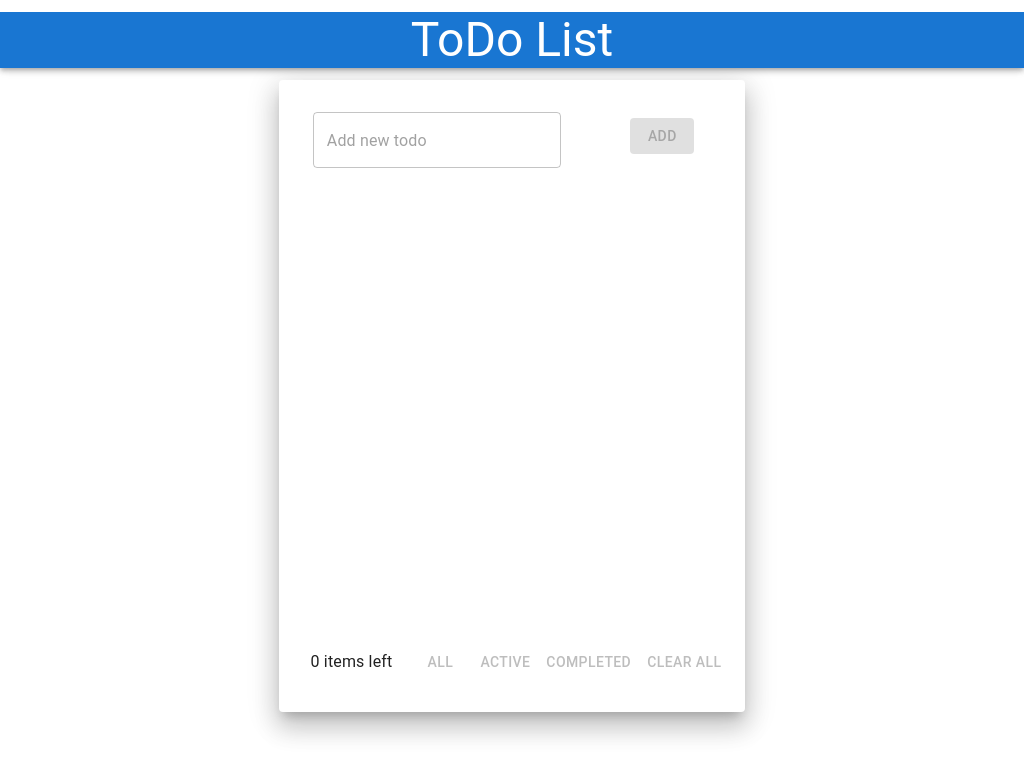
Scenario: TodoApp › counts remaining uncompleted todos
Type "First Todo" into the field with placeholder "Add new todo" at (437,140), box [313,112,561,168]
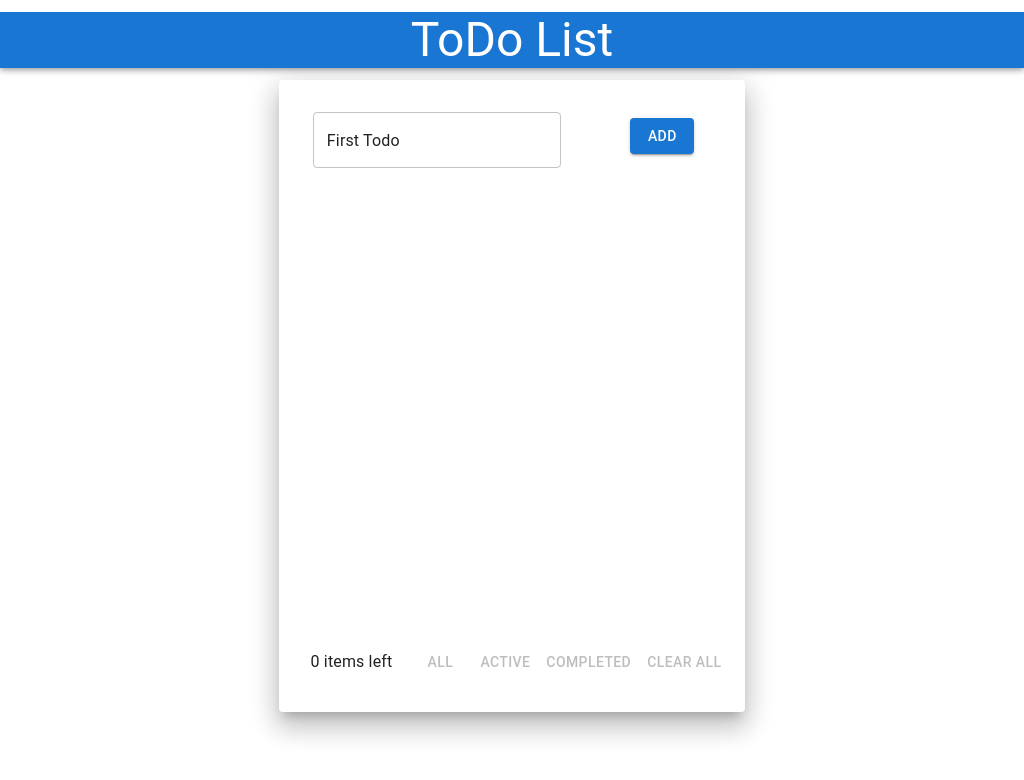
Click the button "Add" at (662,136), box [630,118,694,154]
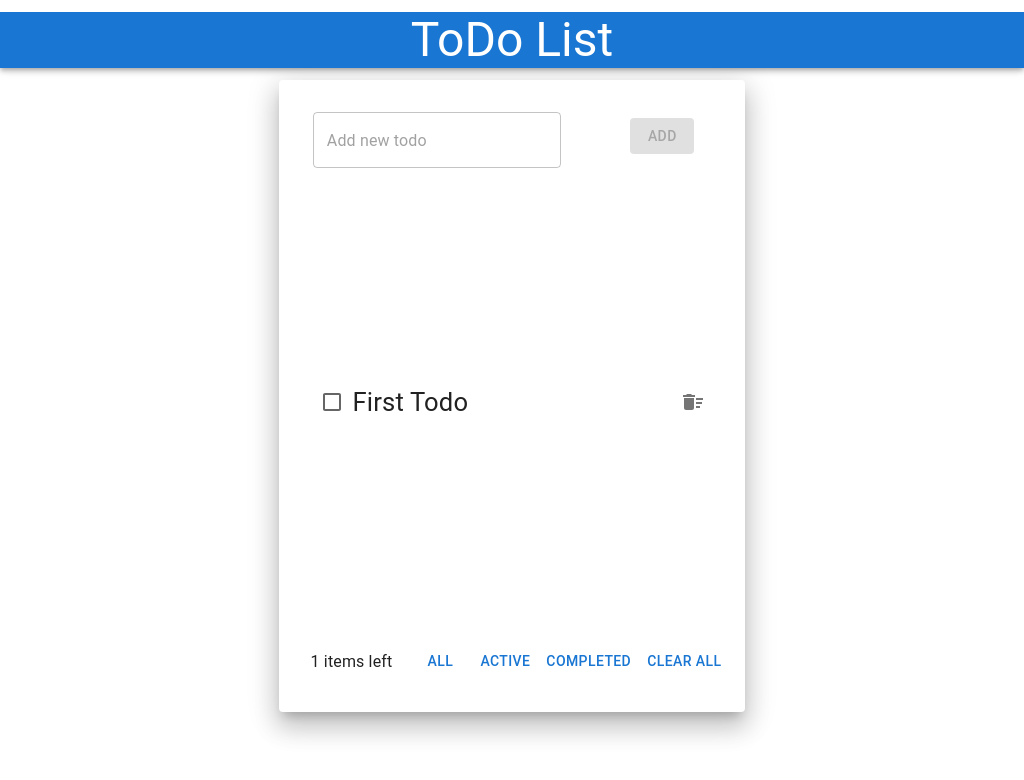
Type "Second Todo" into the field with placeholder "Add new todo" at (437,140), box [313,112,561,168]
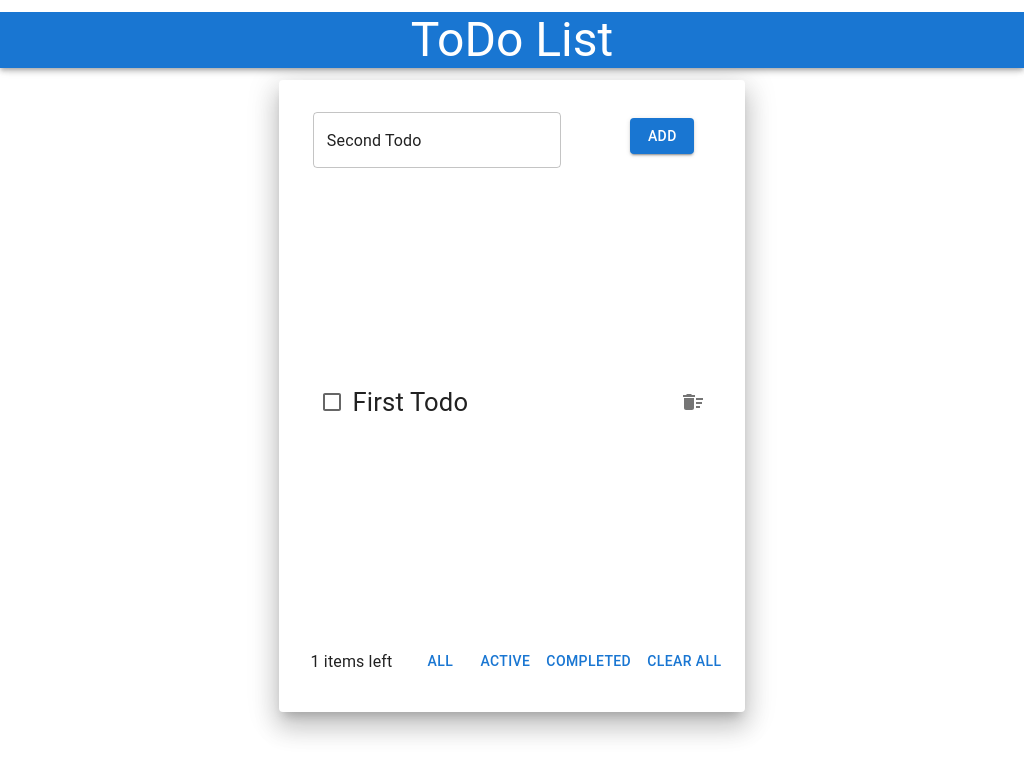
Click the button "Add" at (662,136), box [630,118,694,154]
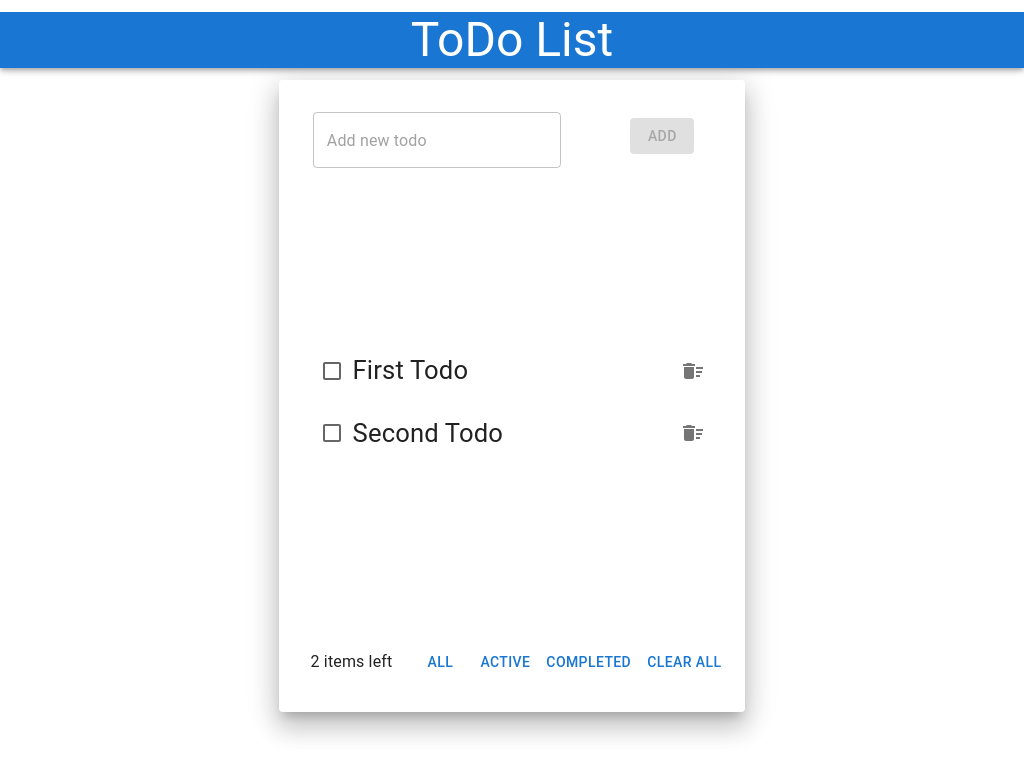
Result: the text "2 items left" is shown at [311,652,392,671]
Click the 1st checkbox at (332,370), box [320,358,344,382]
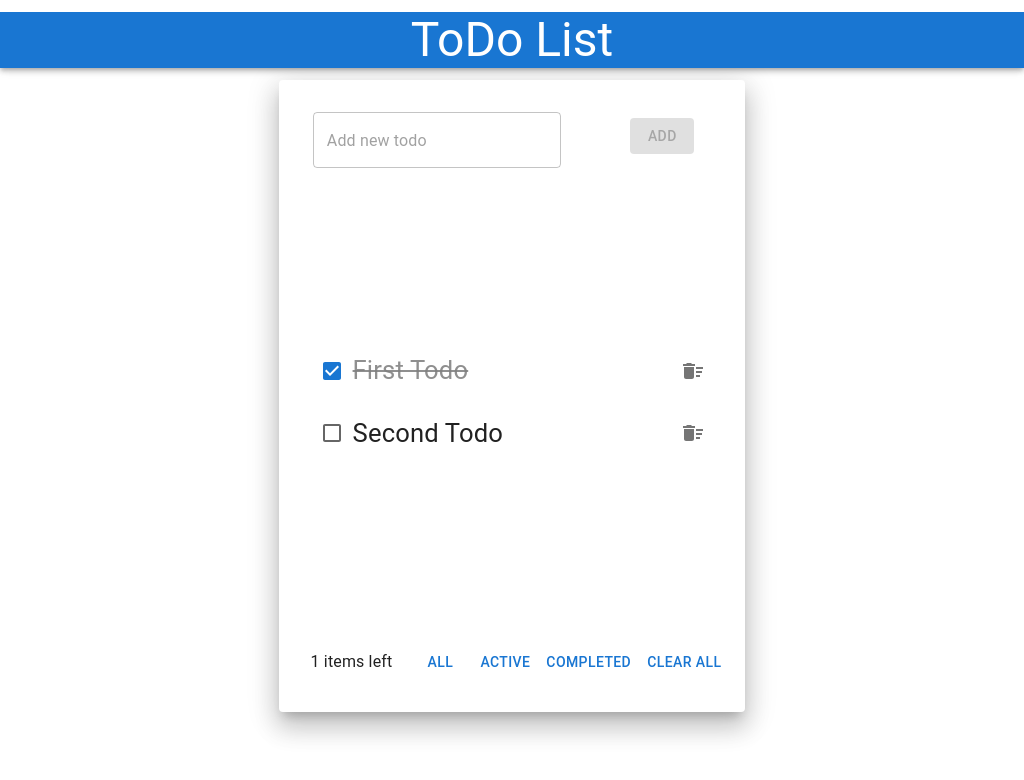
Result: the text "1 items left" is shown at [311,652,392,671]
Click the 2nd checkbox at (332,433), box [320,421,344,445]
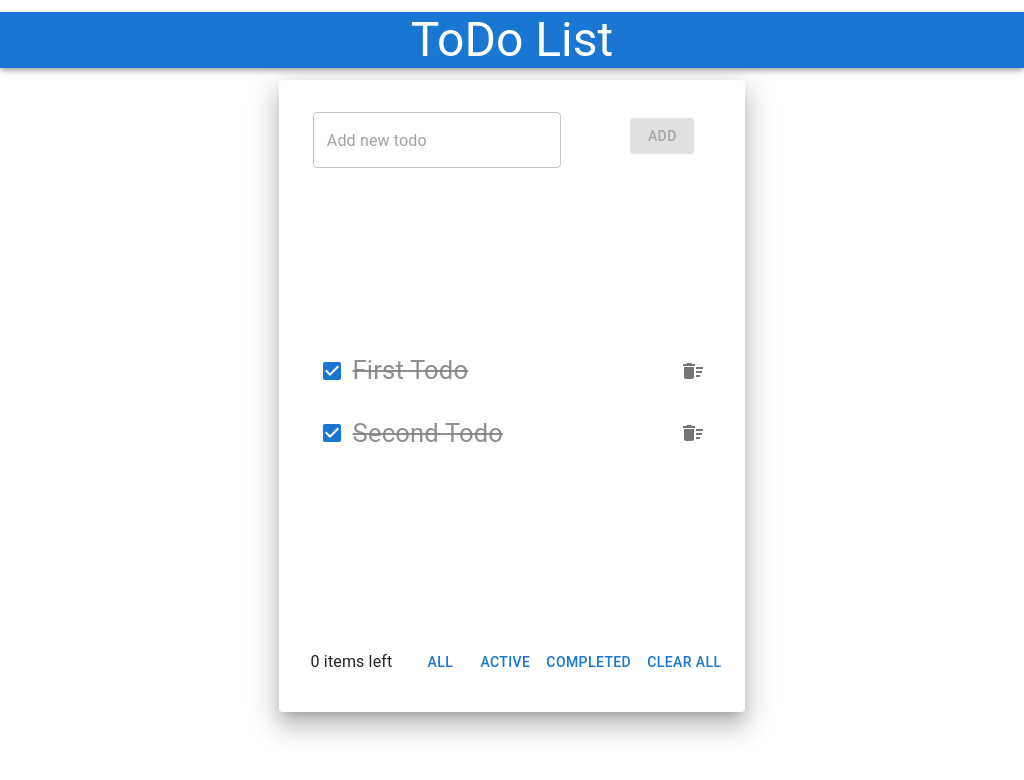
Result: the text "0 items left" is shown at [311,652,392,671]
